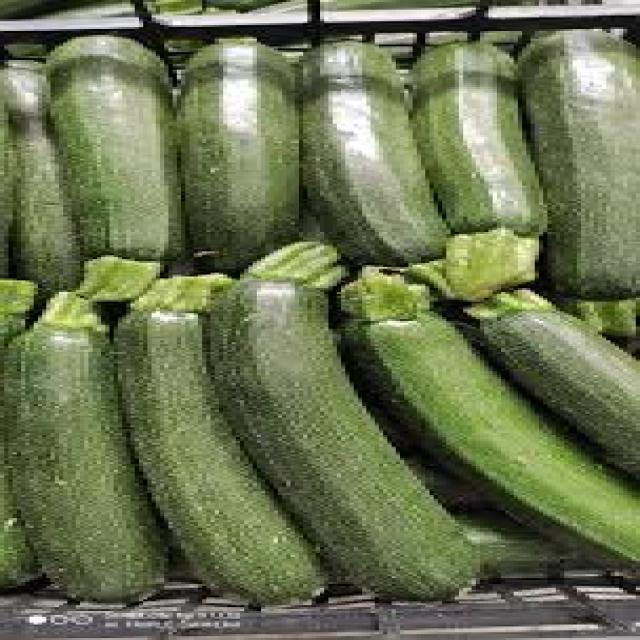Zucchini: (13, 294, 168, 602), (31, 38, 190, 296)
